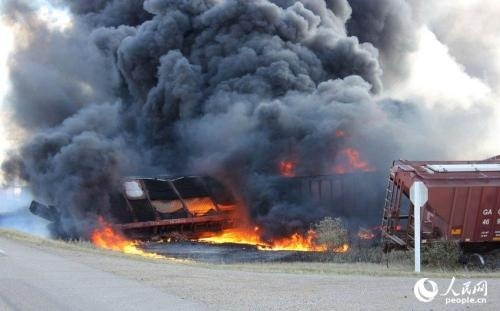fire: (81, 210, 350, 263)
